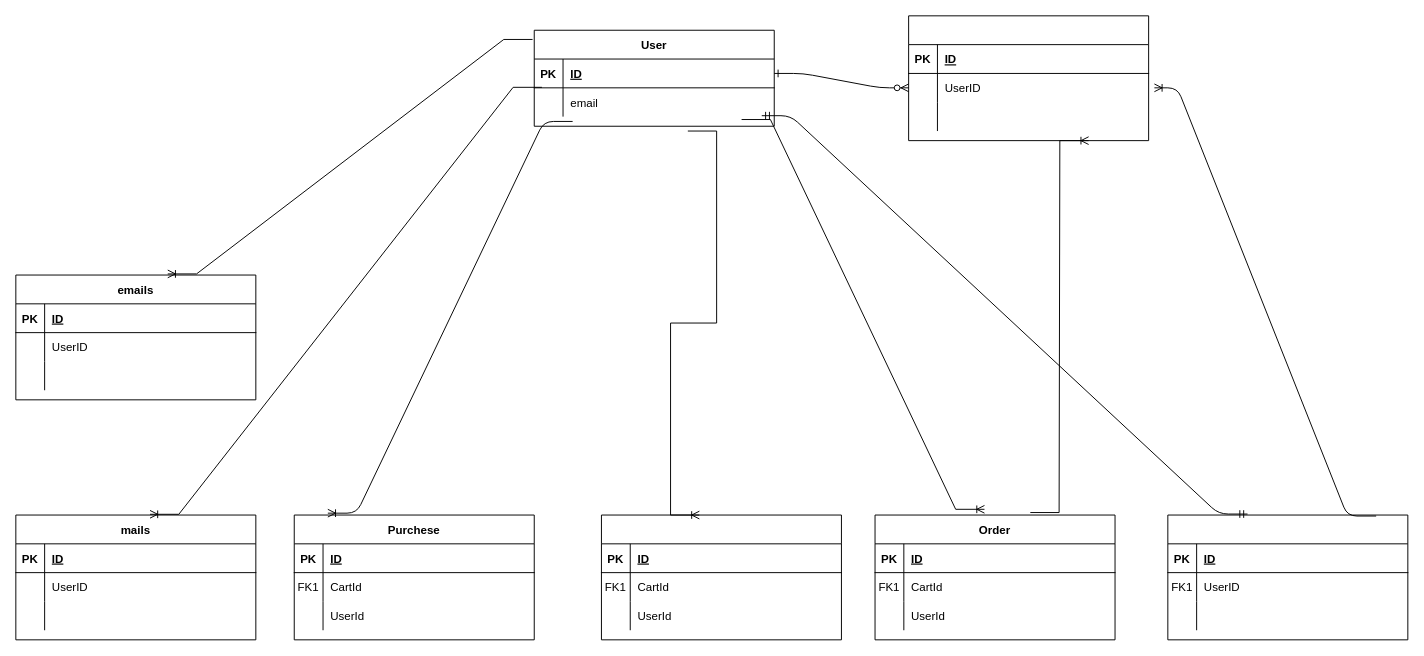
This 1424x656 diagram has some shape labels left out. The shapes that lost their labels are listed below. From the top down, each one's box as (x1, y1, x2, y2) in pixels, then its label:
(908, 15, 1149, 141): Product
(600, 514, 841, 640): Post
(1167, 514, 1408, 640): Cart
